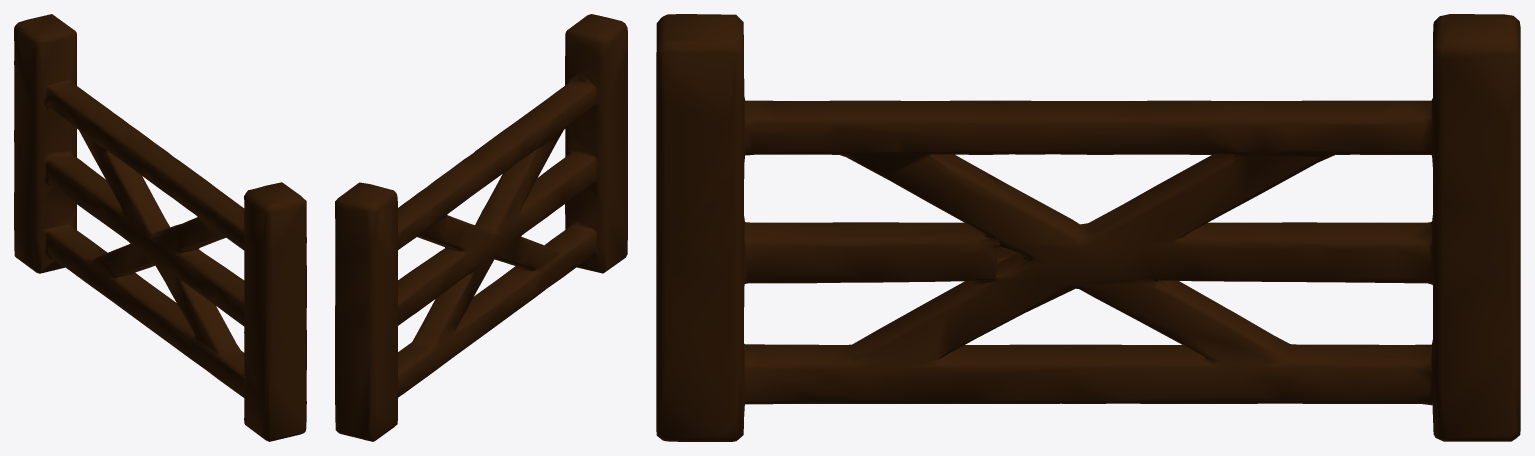
The model's file is gen3d-wooden-gate-lod0.glb.
3 views of the same model, side by side, from view 1: azimuth 30°, elevation 25°; view 2: azimuth 150°, elevation 25°; view 3: azimuth 270°, elevation 25° (orthographic). The views are drawn at different scales.
Parts seen in each view (by area): view 1: part_0; view 2: part_0; view 3: part_0.
Boxes of the visible parts, x1,y1,x2,y2 form: part_0: (14,14,306,441); part_0: (335,14,627,441); part_0: (656,14,1520,441).
Size of the model in its own units: 0.1906 by 1.02 by 2.
